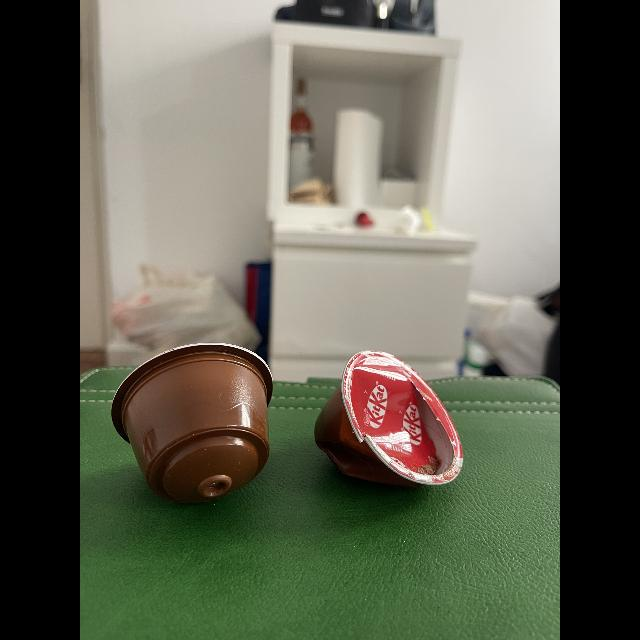damaged_capsule: (307, 341, 475, 509)
intact_capsule: (104, 326, 306, 509)
